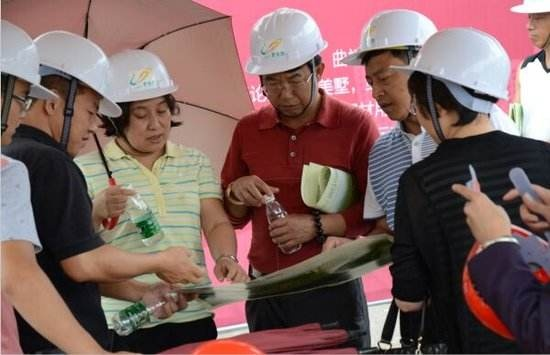white: (407, 22, 512, 135), (30, 29, 106, 157), (246, 6, 325, 116), (356, 7, 431, 119), (101, 48, 179, 150), (2, 20, 38, 148), (512, 1, 550, 50)
